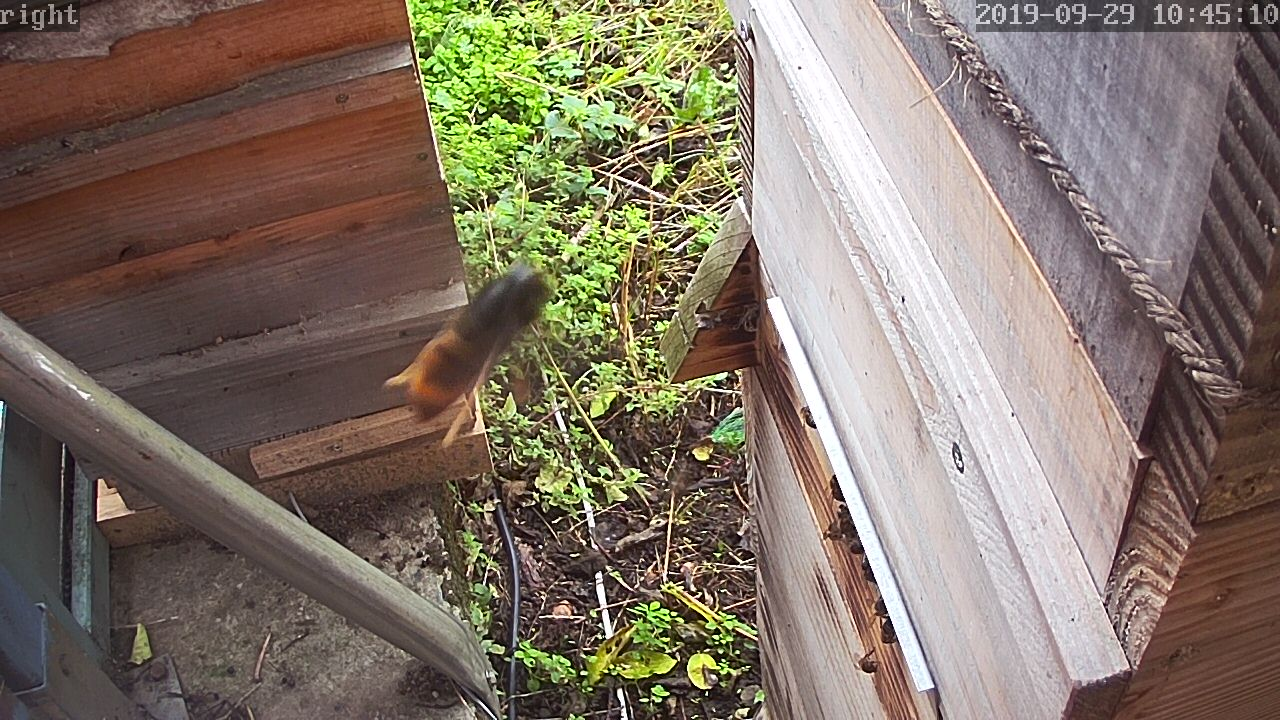bee: (817, 512, 866, 556), (863, 594, 897, 645), (817, 472, 856, 510), (849, 650, 883, 682), (796, 402, 820, 436), (854, 557, 878, 590)
hornet: (389, 249, 562, 452)
